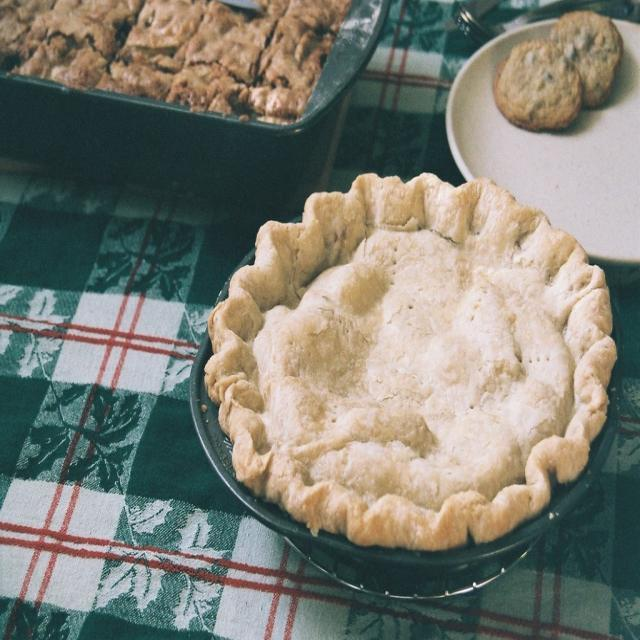Cookie: (493, 36, 582, 134), (549, 7, 623, 109)
